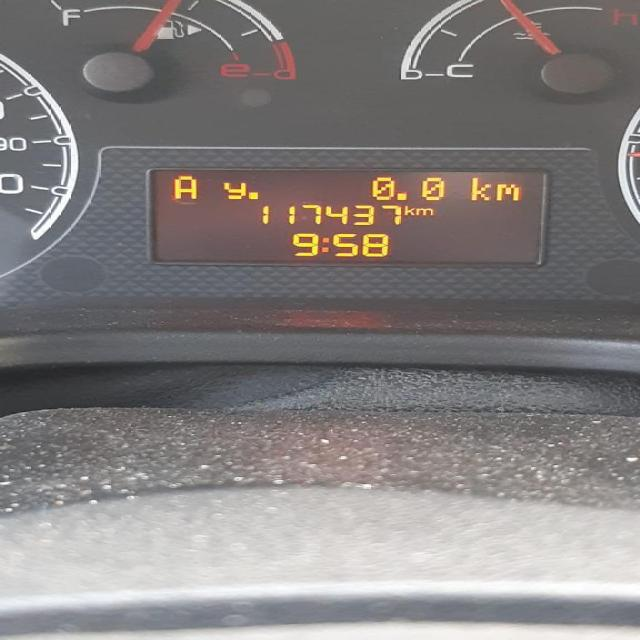odometer: (142, 166, 549, 267)
